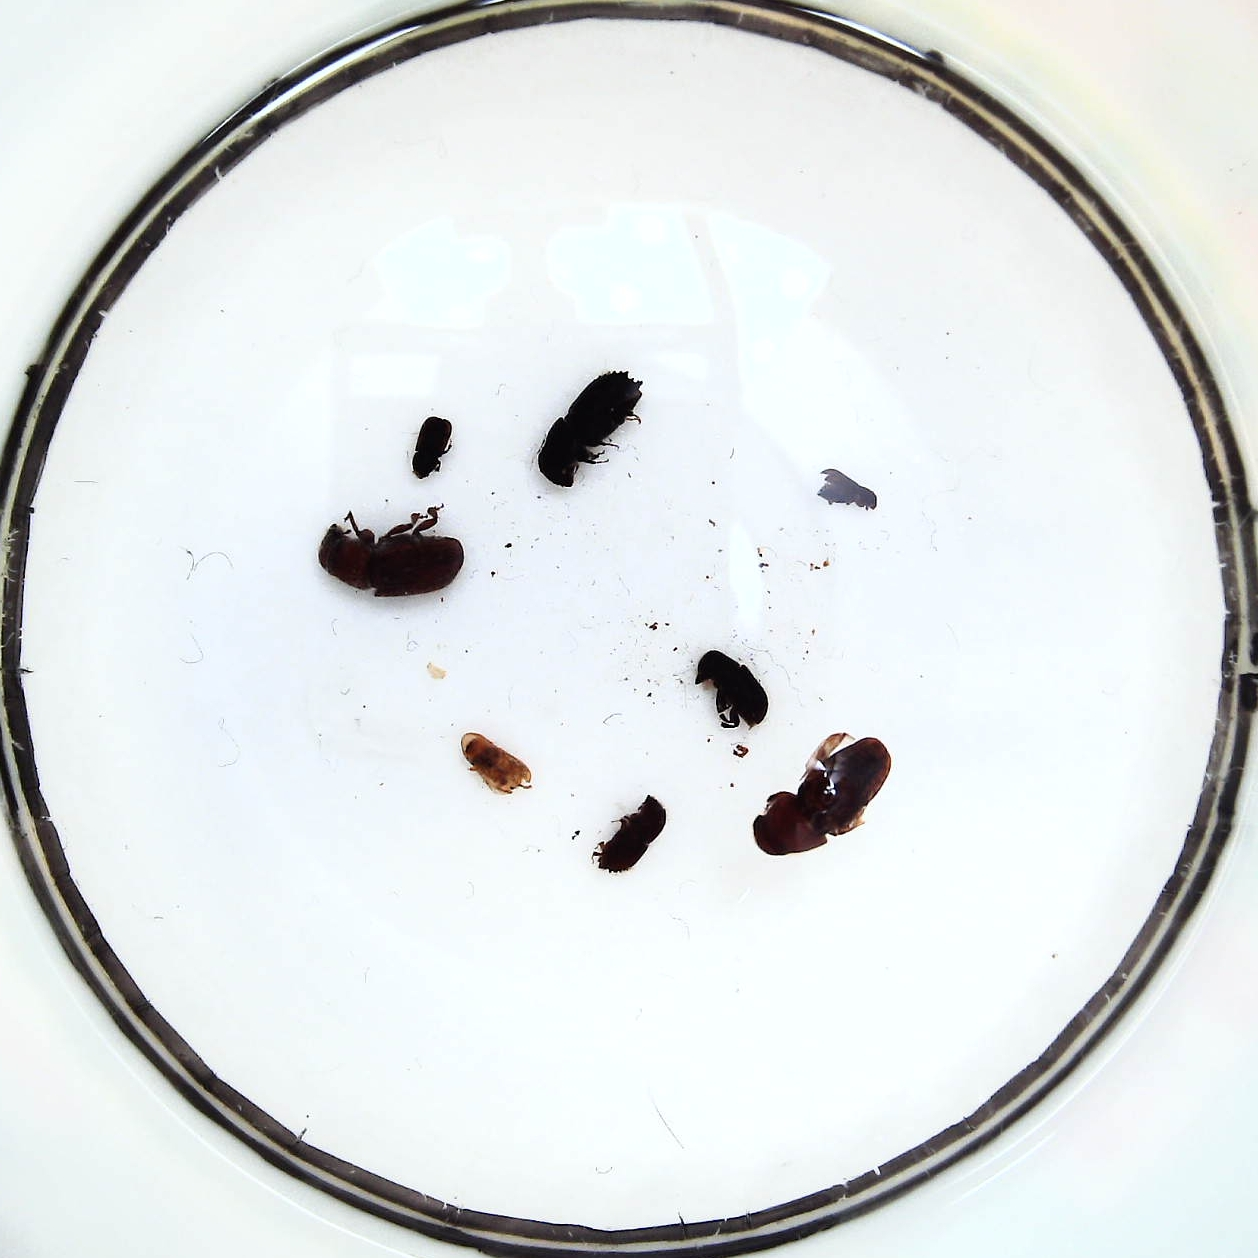Boerner: (537, 369, 644, 487)
Leconte: (753, 737, 891, 856), (320, 524, 463, 597)
acuminatus: (412, 416, 450, 479)
armandi: (696, 651, 770, 730), (817, 469, 877, 511)
coleoptera: (461, 734, 532, 793)
linnaeus: (594, 795, 664, 873)
